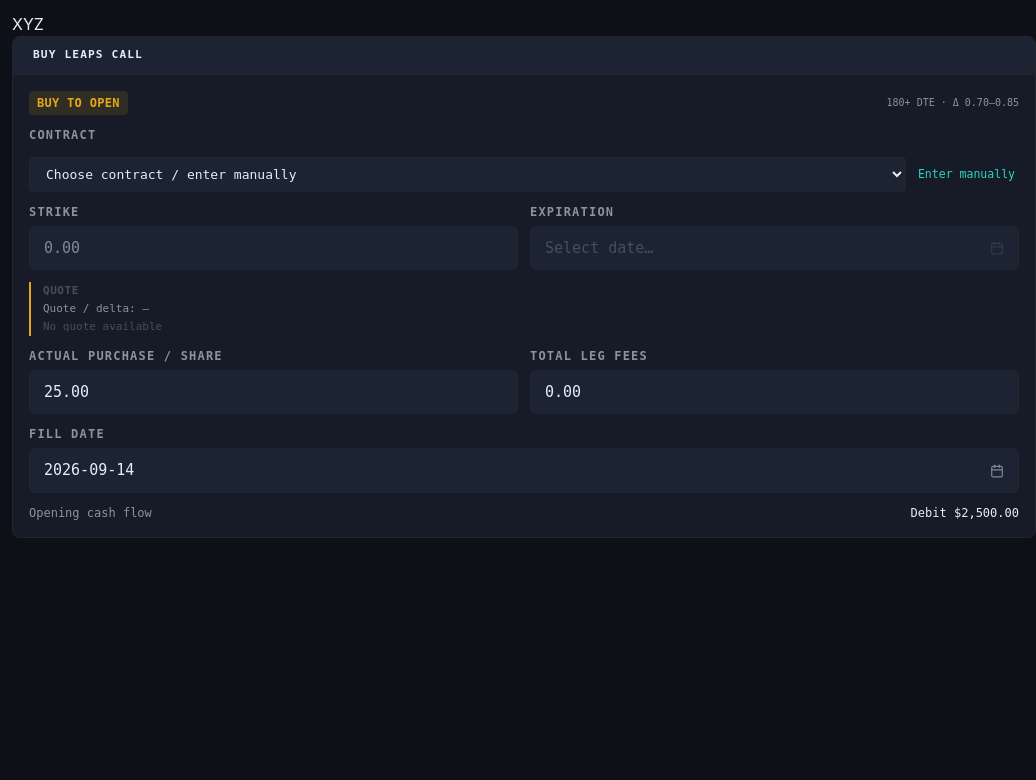
Test case: PmccLegSection › writes a chosen contract’s strike and expiration but never the fill
Select "Sep 17, 2027 · $80.00 · 368 DTE · Δ 0.80 · mid $25.00" in the dropdown labelled "Contract" at [467, 174], box [29,157,906,192]
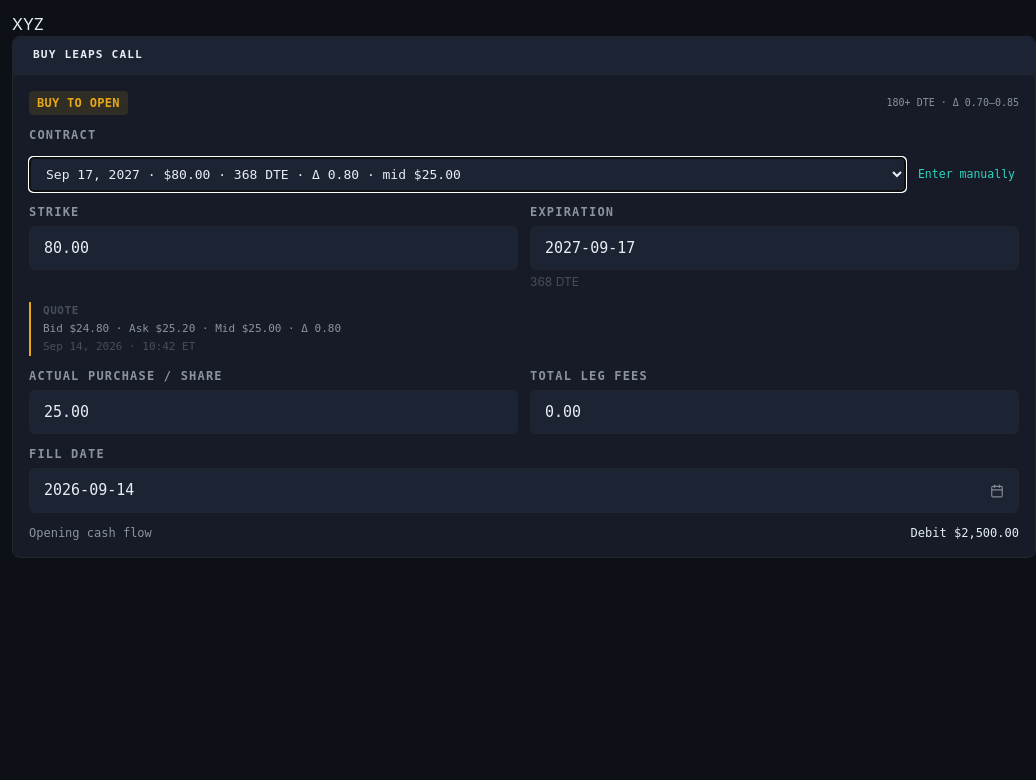
Expected: the field with id "long-fill" holds "25.00", [29,390,518,434]
Result: the field with id "long-strike" holds "80.00" at [29,226,518,270]
Result: the field with id "long-expiration" holds "2027-09-17" at [530,226,1019,270]
